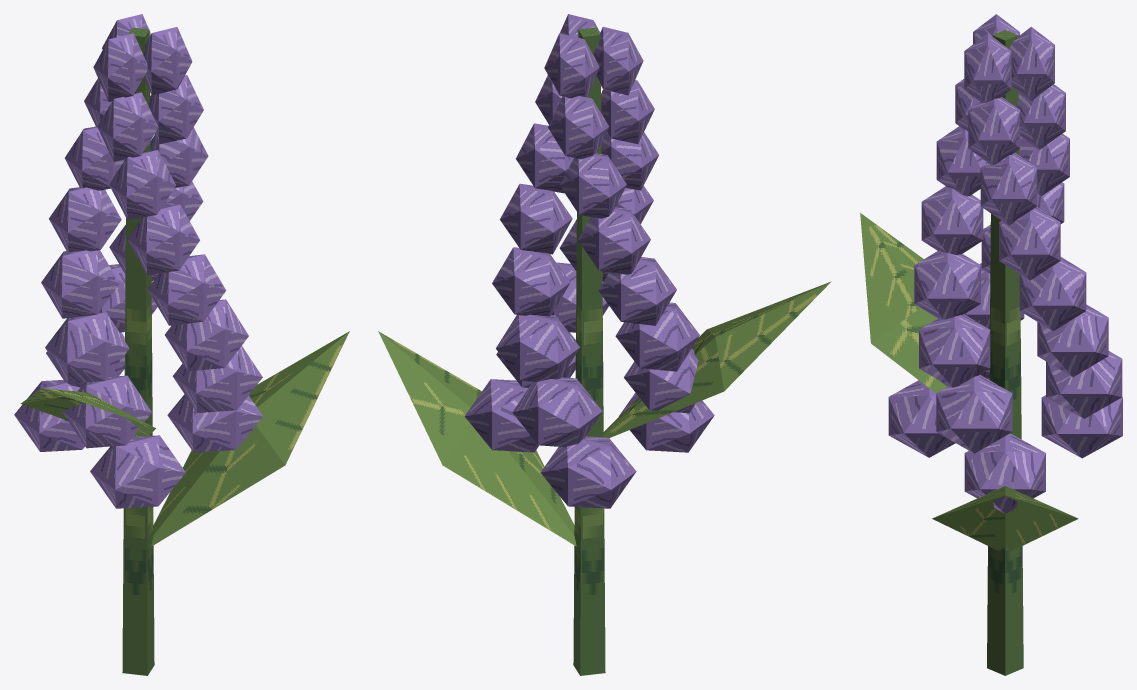
Rendered from flor-lupino-v01.gltf.
The picture shows the model from 3 angles, left to right: view 1: azimuth 30°, elevation 25°; view 2: azimuth 150°, elevation 25°; view 3: azimuth 270°, elevation 25°; orthographic projection.
Visible parts, largest first — view 1: flores-espiga, folhas, hastes; view 2: flores-espiga, folhas, hastes; view 3: flores-espiga, folhas, hastes.
Part boxes in pixels (left/top/right/bottom): flores-espiga: left=14, top=14, right=263, bottom=508; folhas: left=20, top=331, right=349, bottom=546; hastes: left=122, top=27, right=154, bottom=675; flores-espiga: left=464, top=14, right=714, bottom=508; folhas: left=378, top=281, right=831, bottom=546; hastes: left=573, top=27, right=605, bottom=675; flores-espiga: left=888, top=14, right=1122, bottom=513; folhas: left=860, top=213, right=1078, bottom=550; hastes: left=987, top=30, right=1023, bottom=675.
Size of the model in its own units: 0.5944 by 0.9568 by 0.3574.
Materials: 1 (1 with a texture image).
